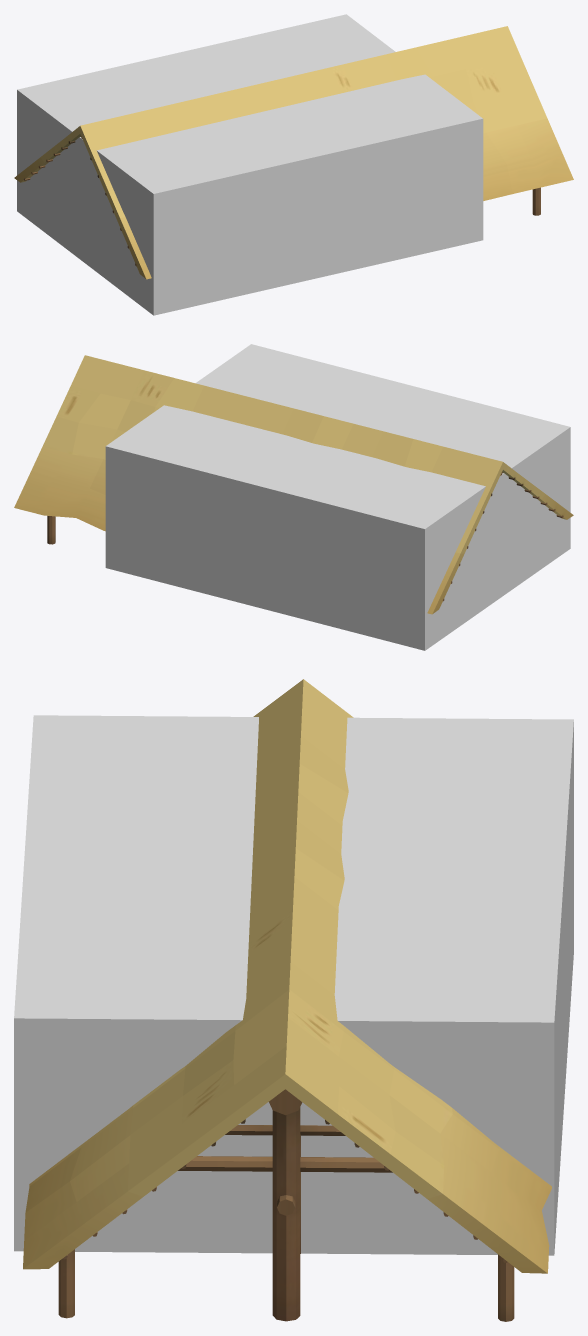
The model's file is House1.gltf.
3 renders of one model, top to bottom at view 1: azimuth 30°, elevation 25°; view 2: azimuth 150°, elevation 25°; view 3: azimuth 270°, elevation 25°, orthographic. The views are drawn at different scales.
Visible parts, largest first — view 1: boxhouse, House.002; view 2: boxhouse, House.002; view 3: boxhouse, House.002.
Boxes of the visible parts, x1,y1,x2,y2 form: boxhouse: [17, 14, 483, 315]; House.002: [14, 26, 573, 279]; boxhouse: [105, 344, 570, 650]; House.002: [14, 355, 573, 614]; boxhouse: [14, 715, 573, 1255]; House.002: [23, 679, 551, 1321].
Bounding box in the file's own units: 17.93 × 5.59 × 10.62.
Materials: 1 (1 with a texture image).
